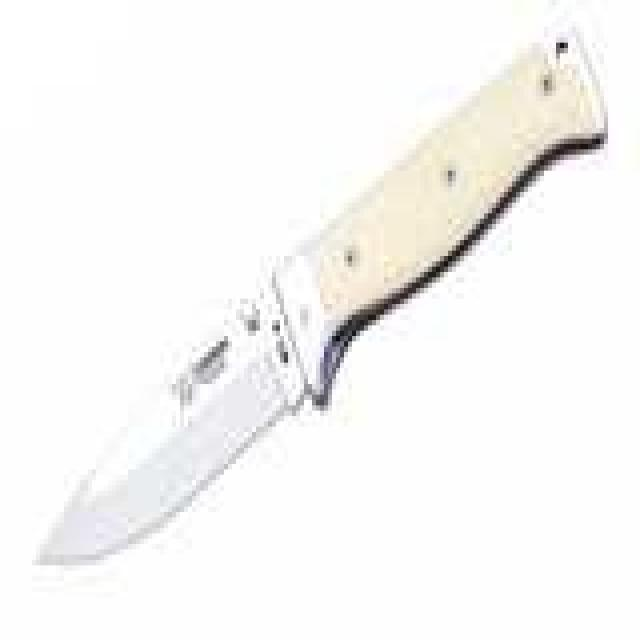Knife: (24, 20, 608, 600)
